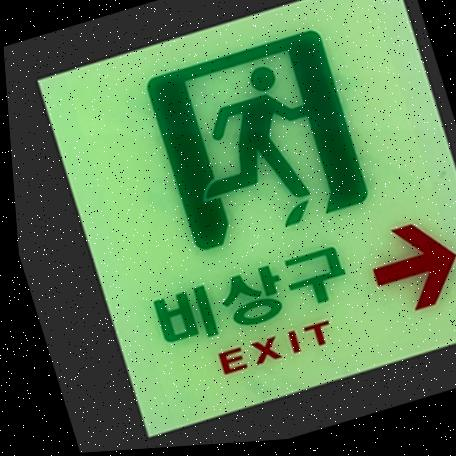emergency_exit: (4, 0, 455, 452)
